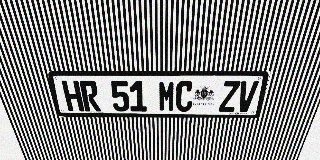1: (128, 81, 147, 111)
5: (110, 81, 130, 111)
C: (175, 81, 194, 112)
H: (61, 81, 84, 111)
M: (158, 81, 176, 112)
R: (79, 81, 101, 111)
V: (235, 81, 259, 112)
Z: (219, 81, 241, 112)
